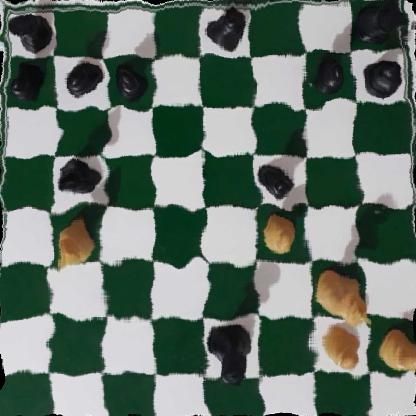black-bishop: (54, 156, 105, 198)
black-king: (206, 4, 250, 48)
black-pawn: (361, 53, 401, 97), (256, 159, 296, 200), (109, 60, 147, 101), (64, 60, 98, 101), (309, 56, 346, 93), (8, 61, 44, 98)
black-queen: (206, 319, 256, 391)
black-rook: (354, 0, 405, 44), (6, 7, 52, 54)
white-bishop: (54, 224, 96, 267)
white-king: (315, 265, 376, 330)
white-pawn: (317, 325, 362, 374), (379, 327, 416, 374), (259, 211, 299, 253)
